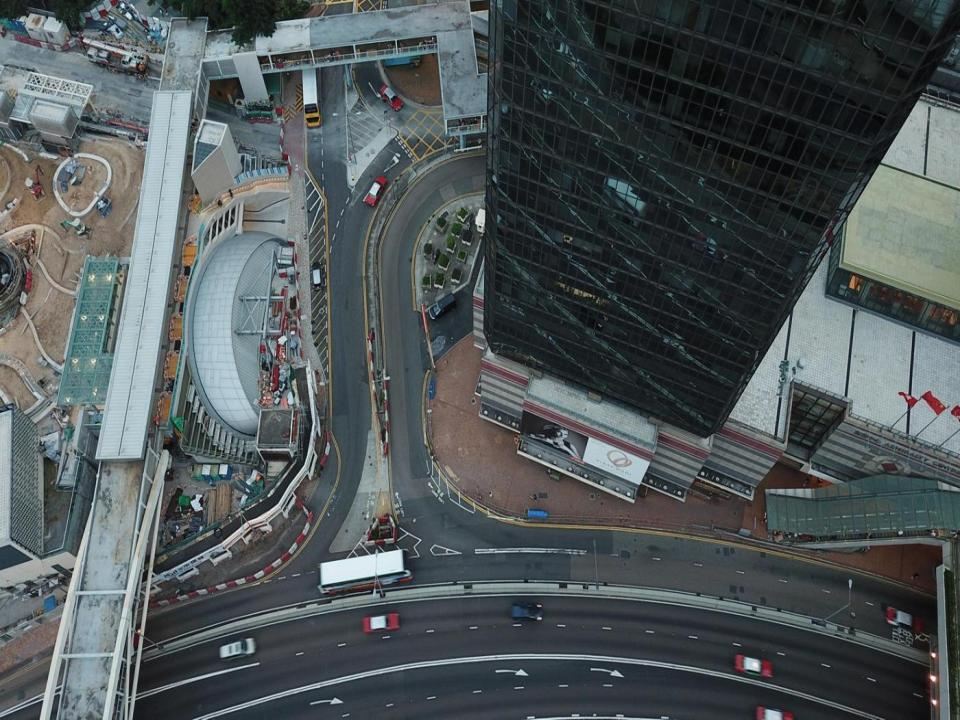bus: (317, 546, 412, 596), (301, 35, 322, 129)
car: (885, 602, 925, 633), (733, 650, 772, 677), (364, 175, 388, 204), (378, 81, 402, 109), (364, 613, 399, 631), (756, 704, 794, 719), (312, 261, 322, 289)
van: (218, 635, 257, 662), (428, 293, 456, 318), (509, 604, 545, 622)
